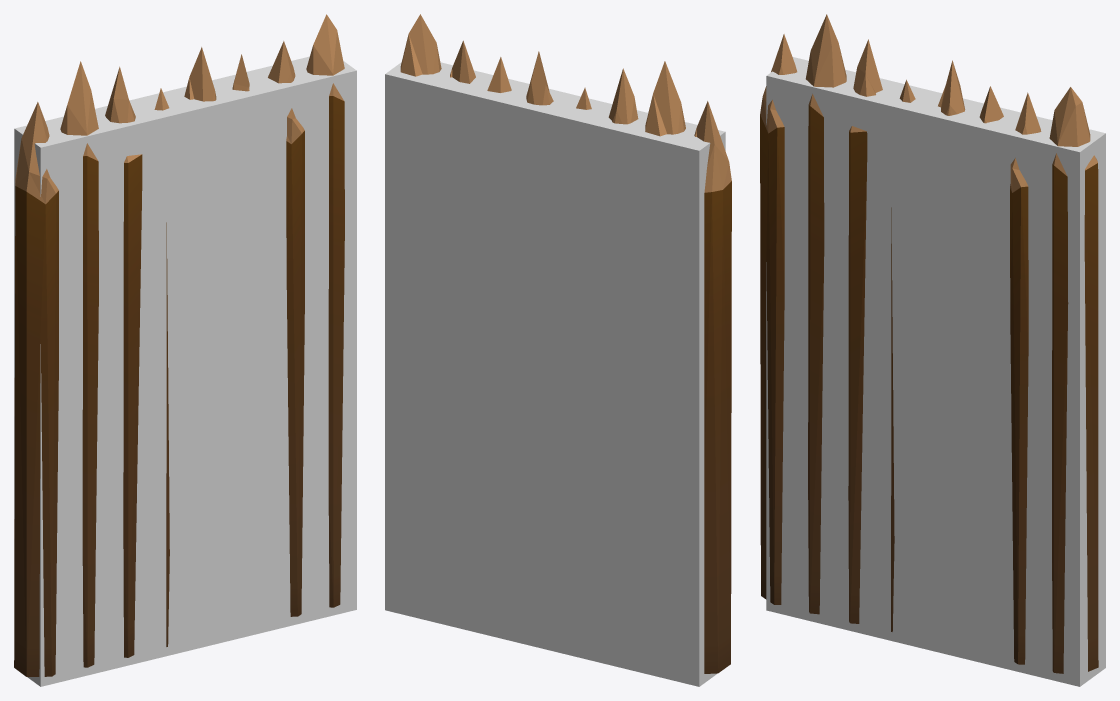
Rendered from palisade_5.glb.
The picture shows the model from 3 angles, left to right: view 1: azimuth 30°, elevation 25°; view 2: azimuth 150°, elevation 25°; view 3: azimuth 330°, elevation 25°; orthographic projection.
Parts seen in each view (by area): view 1: Cube.001, FenceBig_05; view 2: Cube.001, FenceBig_05; view 3: Cube.001, FenceBig_05.
Part boxes in pixels (left/top/right/bottom): Cube.001: left=14, top=56, right=356, bottom=686; FenceBig_05: left=14, top=14, right=344, bottom=676; Cube.001: left=385, top=62, right=725, bottom=686; FenceBig_05: left=400, top=14, right=731, bottom=673; Cube.001: left=766, top=57, right=1105, bottom=686; FenceBig_05: left=760, top=14, right=1098, bottom=673.
Bounding box in the file's own units: 2.22 × 3.89 × 0.3324.
Materials: 1 (1 with a texture image).
